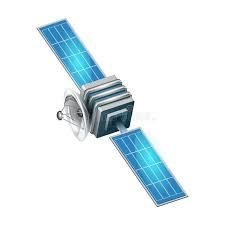antenna: (56, 86, 92, 143)
body: (80, 74, 135, 138)
solar: (108, 126, 190, 209), (35, 18, 107, 91)
